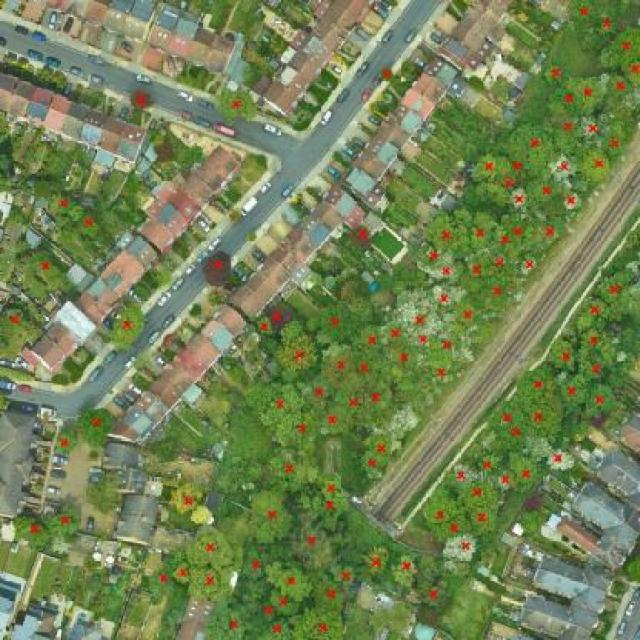tree: (188, 523, 245, 571), (249, 488, 296, 544), (308, 302, 372, 343), (418, 551, 459, 615), (244, 379, 304, 421), (277, 409, 323, 460), (288, 515, 332, 568), (598, 264, 640, 318), (11, 253, 69, 292), (287, 606, 350, 640), (578, 325, 627, 367), (524, 393, 562, 445), (0, 300, 43, 345), (430, 214, 472, 260), (108, 304, 149, 350), (265, 453, 313, 492), (273, 334, 321, 372), (317, 341, 358, 385), (270, 564, 318, 601), (12, 510, 54, 552), (332, 374, 371, 418), (202, 606, 252, 640), (514, 123, 557, 162), (76, 407, 116, 447), (186, 563, 229, 600), (595, 27, 640, 62), (305, 468, 352, 499), (568, 76, 608, 112), (442, 524, 478, 564), (452, 304, 494, 338), (47, 501, 78, 547), (215, 91, 259, 123), (604, 73, 640, 112), (312, 404, 353, 438), (462, 213, 500, 249), (480, 272, 514, 311), (555, 372, 591, 408), (586, 380, 620, 418), (528, 172, 563, 208), (521, 368, 559, 401), (202, 247, 233, 287), (564, 0, 610, 26), (360, 378, 394, 413), (511, 444, 538, 488), (358, 539, 391, 575), (298, 375, 334, 407), (384, 345, 425, 373), (348, 348, 381, 382), (171, 479, 204, 513), (538, 438, 572, 471), (444, 458, 476, 493), (583, 354, 617, 386), (390, 550, 418, 588), (470, 496, 499, 532), (414, 245, 457, 269), (148, 561, 175, 599), (464, 476, 494, 510), (428, 286, 464, 314), (553, 112, 581, 148), (552, 338, 580, 374), (499, 421, 536, 448), (460, 250, 491, 282), (548, 152, 580, 183), (358, 320, 384, 358), (405, 306, 443, 332), (582, 294, 612, 326), (471, 154, 504, 183), (501, 151, 534, 180), (240, 552, 274, 580), (576, 109, 604, 143), (315, 582, 350, 609), (311, 497, 347, 523), (434, 332, 464, 363), (262, 306, 295, 334), (554, 191, 588, 218), (169, 548, 194, 584), (552, 88, 585, 115), (258, 615, 293, 640), (381, 318, 412, 345), (423, 358, 454, 385), (514, 247, 541, 278), (584, 149, 611, 180), (600, 125, 626, 157), (426, 492, 451, 525), (535, 218, 563, 247), (542, 64, 572, 90), (47, 194, 79, 218), (596, 14, 622, 43), (495, 402, 522, 429), (360, 455, 389, 480), (486, 247, 516, 271), (125, 90, 156, 113), (269, 588, 296, 614), (365, 432, 393, 457), (408, 325, 439, 347), (475, 448, 500, 475), (505, 216, 529, 244), (52, 430, 77, 456), (348, 224, 372, 251), (187, 502, 211, 528), (253, 599, 281, 621), (495, 171, 520, 195), (439, 512, 464, 536), (435, 261, 460, 284), (507, 190, 533, 212), (78, 211, 98, 238), (331, 564, 358, 584), (254, 317, 277, 340), (496, 470, 518, 493), (492, 226, 512, 249), (626, 57, 640, 85), (375, 68, 397, 84)
